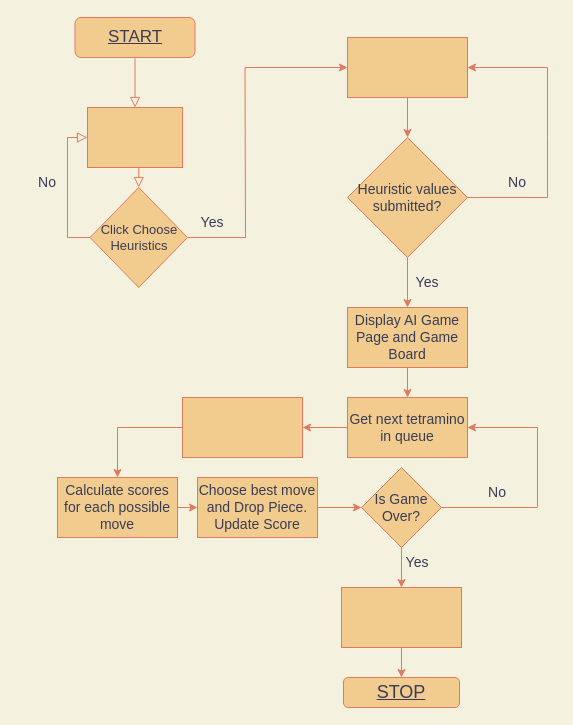
This 573x725 diagram has some shape labels left out. Each missing label, with the centre of its shape:
"Display Heuristic Sliders" goes at point (407, 67).
"Display Main Menu" goes at point (134, 137).
"Iterate through every location and rotation" goes at point (242, 427).
"Stop game and save final score to High Scores" goes at point (401, 617).
